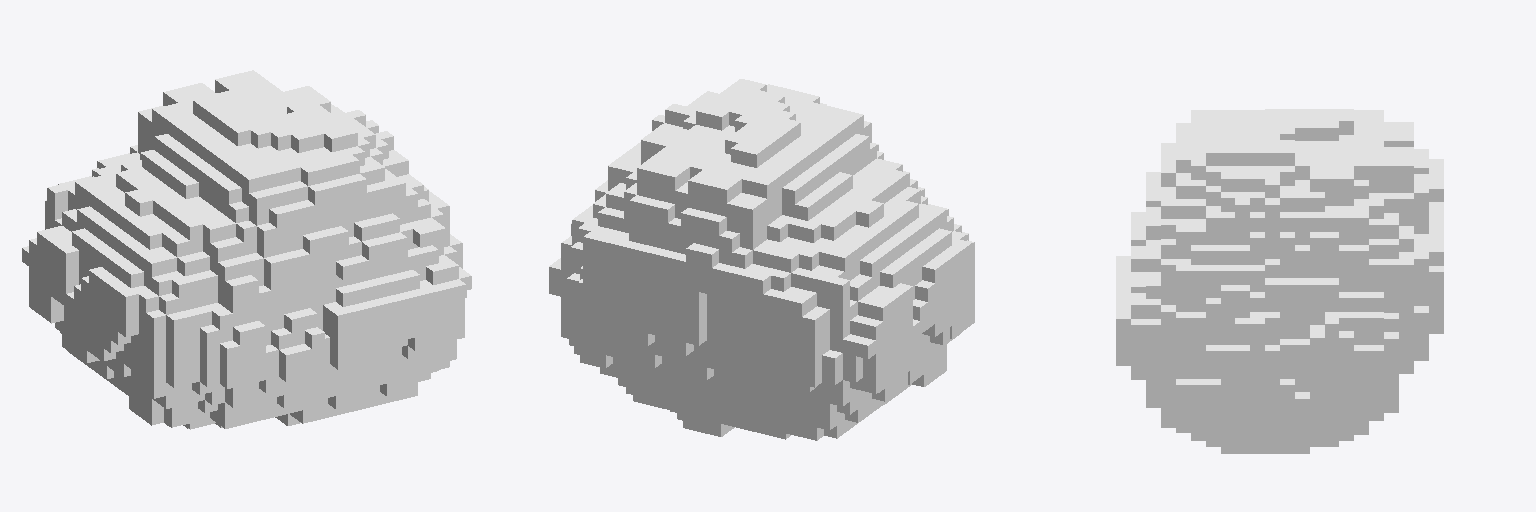
File: canopy_2.obj
The picture shows the model from 3 angles: view 1: azimuth 30°, elevation 25°; view 2: azimuth 150°, elevation 25°; view 3: azimuth 270°, elevation 25°; orthographic projection.
Parts seen in each view (by area): view 1: object 1; view 2: object 1; view 3: object 1.
Part boxes in pixels (x1,y1,x2,y2): object 1: (22, 70, 471, 429); object 1: (549, 79, 974, 440); object 1: (1116, 109, 1443, 453).
Bounding box in the file's own units: 23.4 × 18 × 19.8.